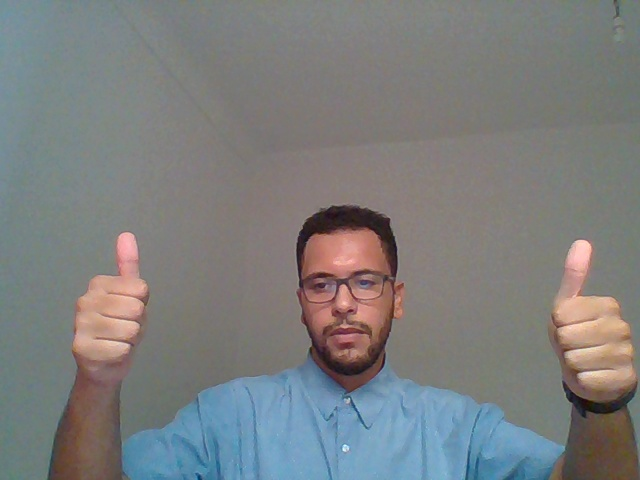ok: (505, 223, 640, 466), (36, 207, 173, 437)
